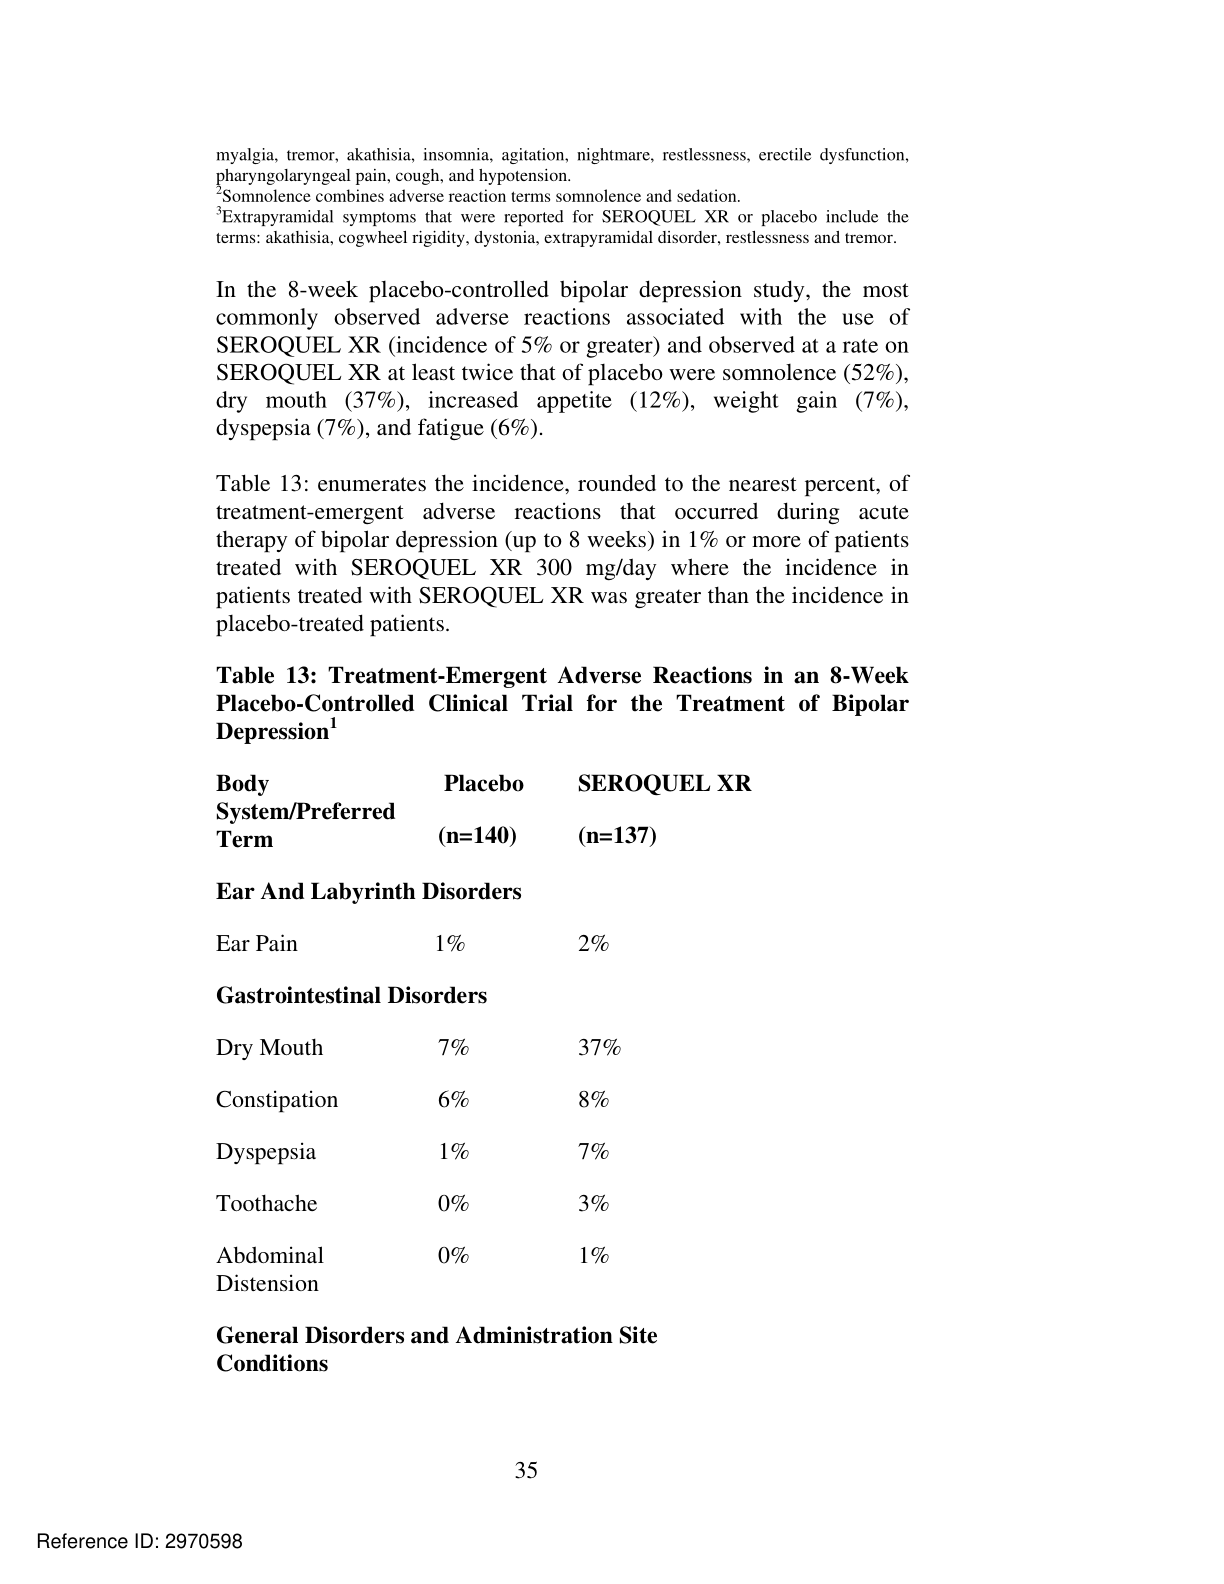nolines: (215, 770, 752, 1299)
